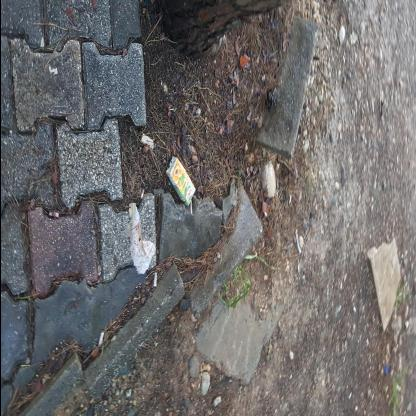karton: (210, 165, 260, 195)
